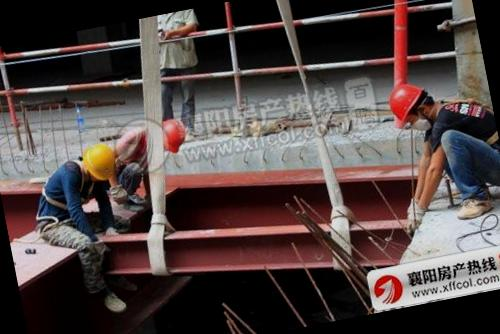person: (22, 136, 156, 324), (369, 66, 500, 236), (137, 9, 219, 146), (100, 115, 204, 218)
